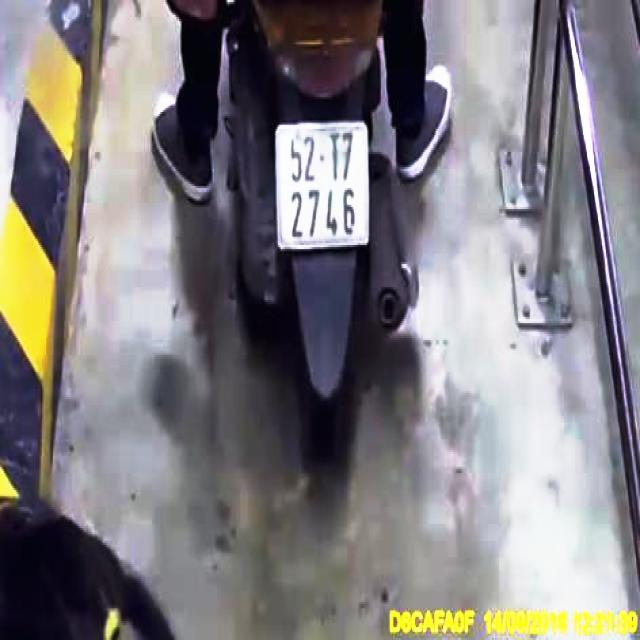license_plate: (277, 124, 370, 252)
